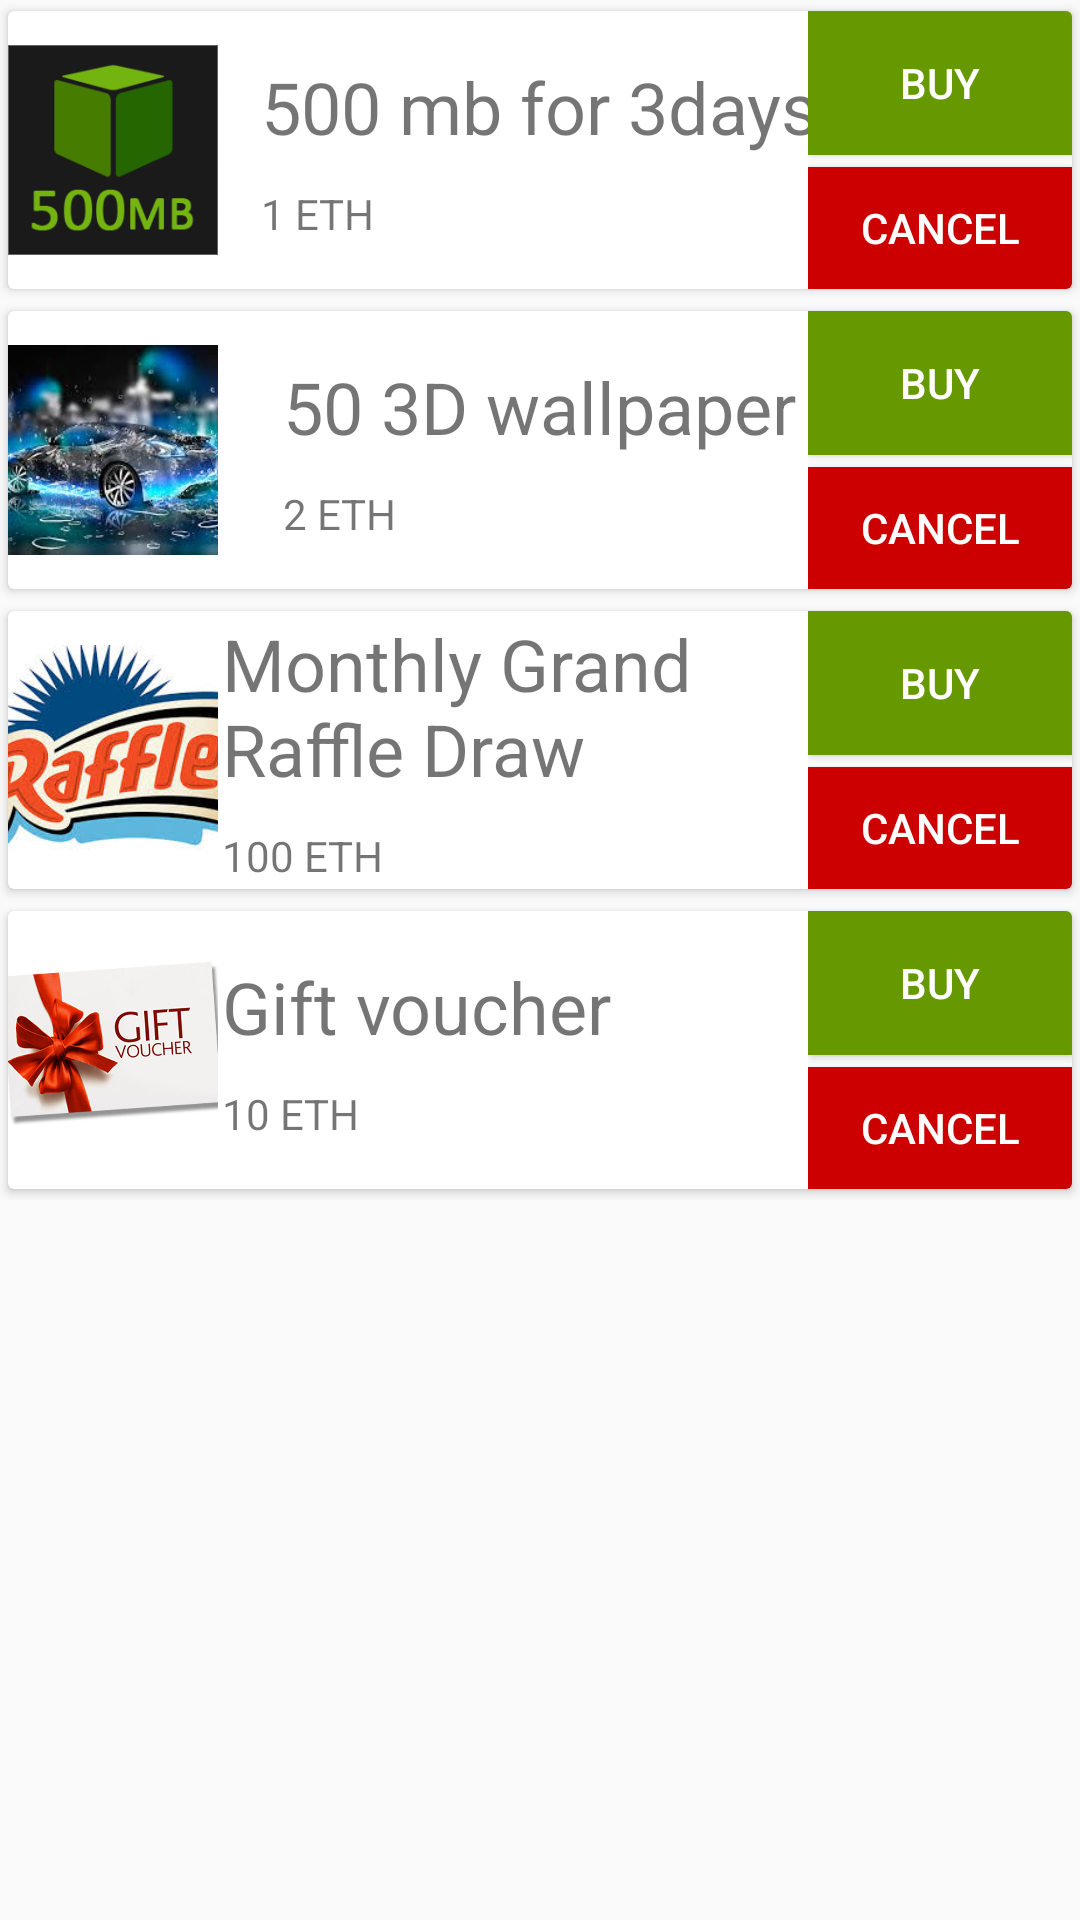

Locate icon controls on the screen. Image size 1080×1920, boxes as (x1, y1, x2, y2).
car: (8, 345, 218, 555)
